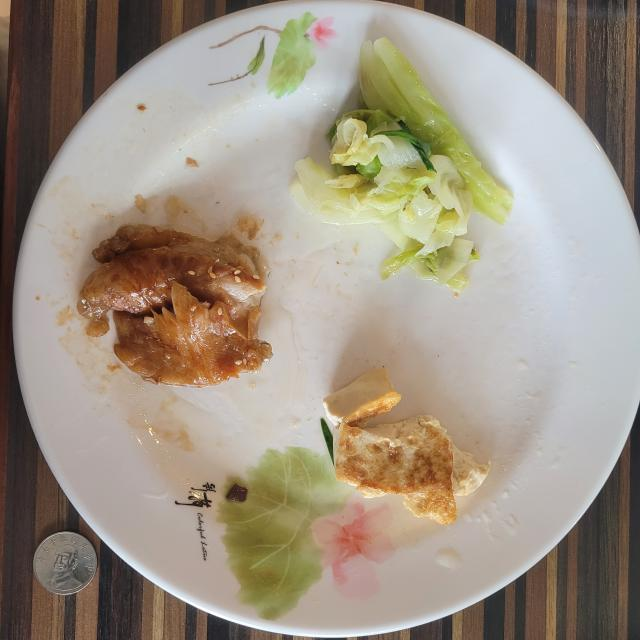Kabayaki sea bream fillet: (78, 225, 271, 388)
cabbage: (291, 39, 512, 291)
coin: (34, 531, 98, 595)
